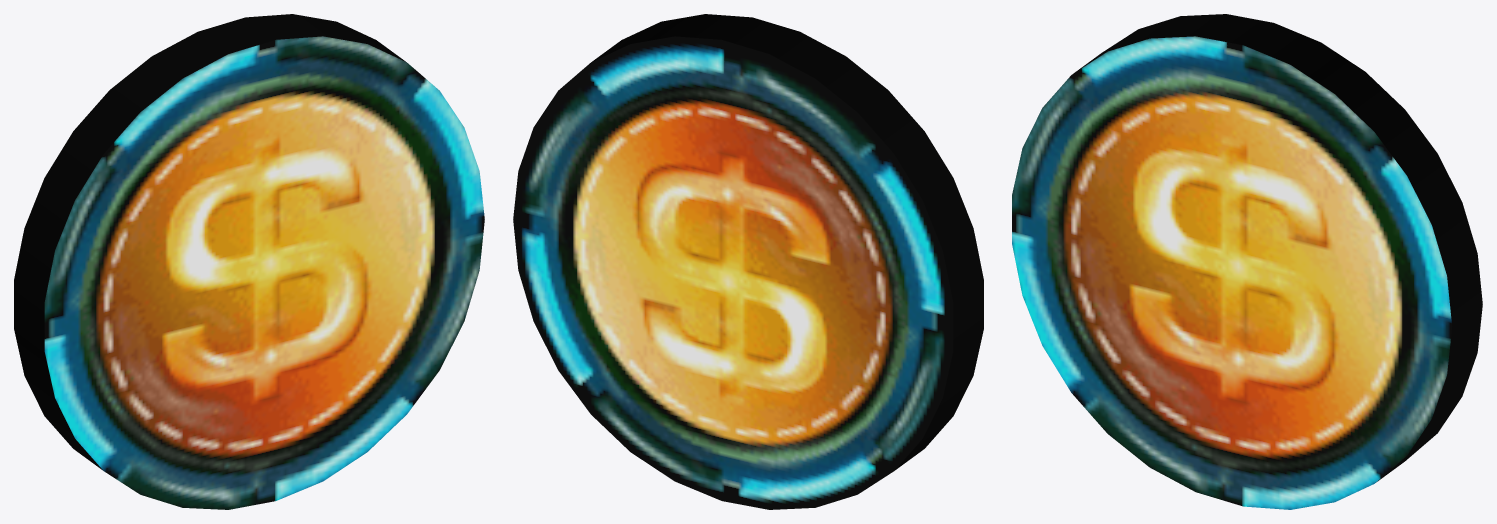
File: view.ico.obj
3 views of the same model, side by side, from view 1: azimuth 30°, elevation 25°; view 2: azimuth 150°, elevation 25°; view 3: azimuth 330°, elevation 25° (orthographic).
Bounding box in the file's own units: 4.78 × 4.79 × 0.5757.
Materials: 1 (1 with a texture image).
